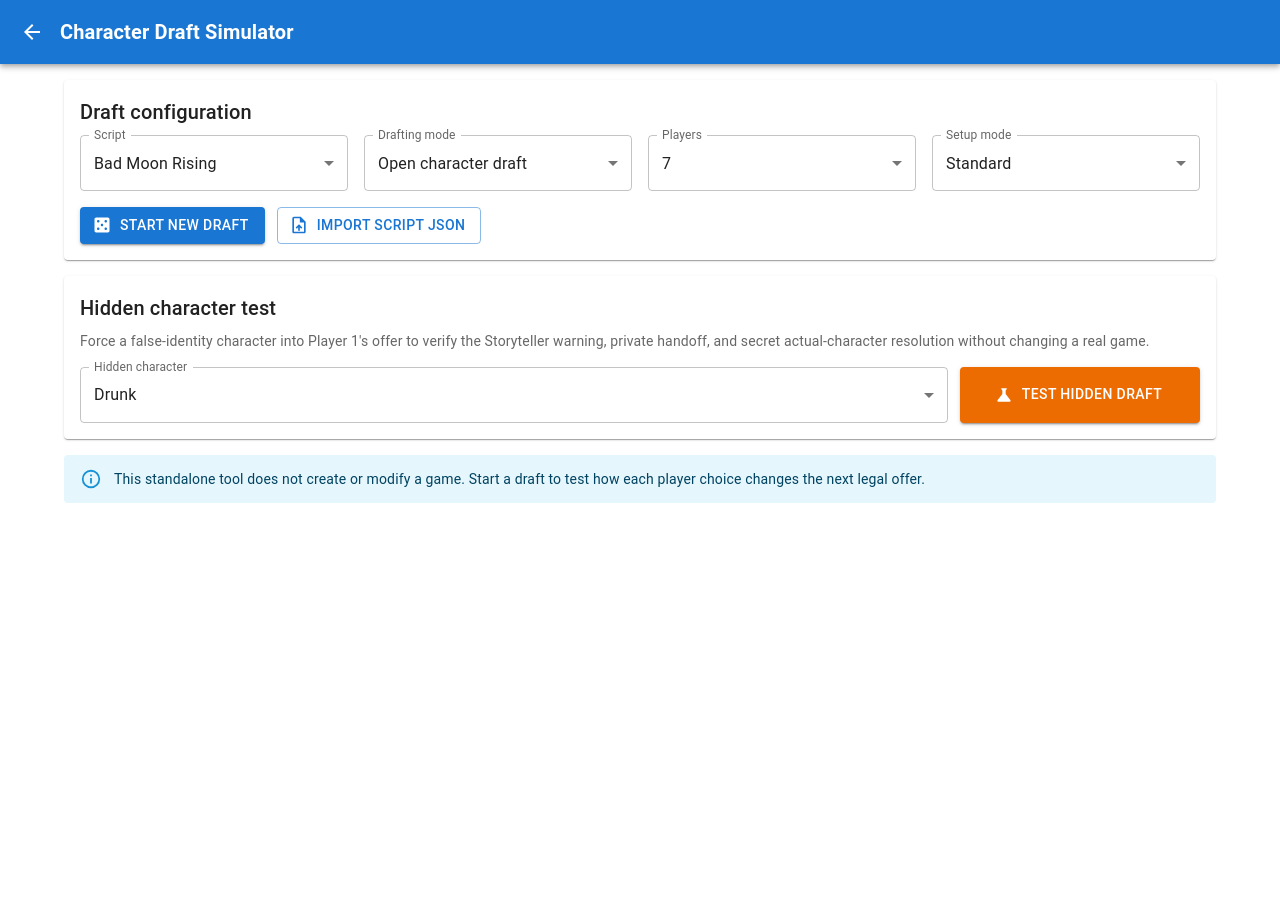
Test: CharacterDraftSimulatorPage › shows the viable candidate count for the active draft
The width and height of the screenshot is (1280, 900).
Step 1. Click the button "Start new draft" → click(172, 225), box [80,207,265,244]
(page scrolled)
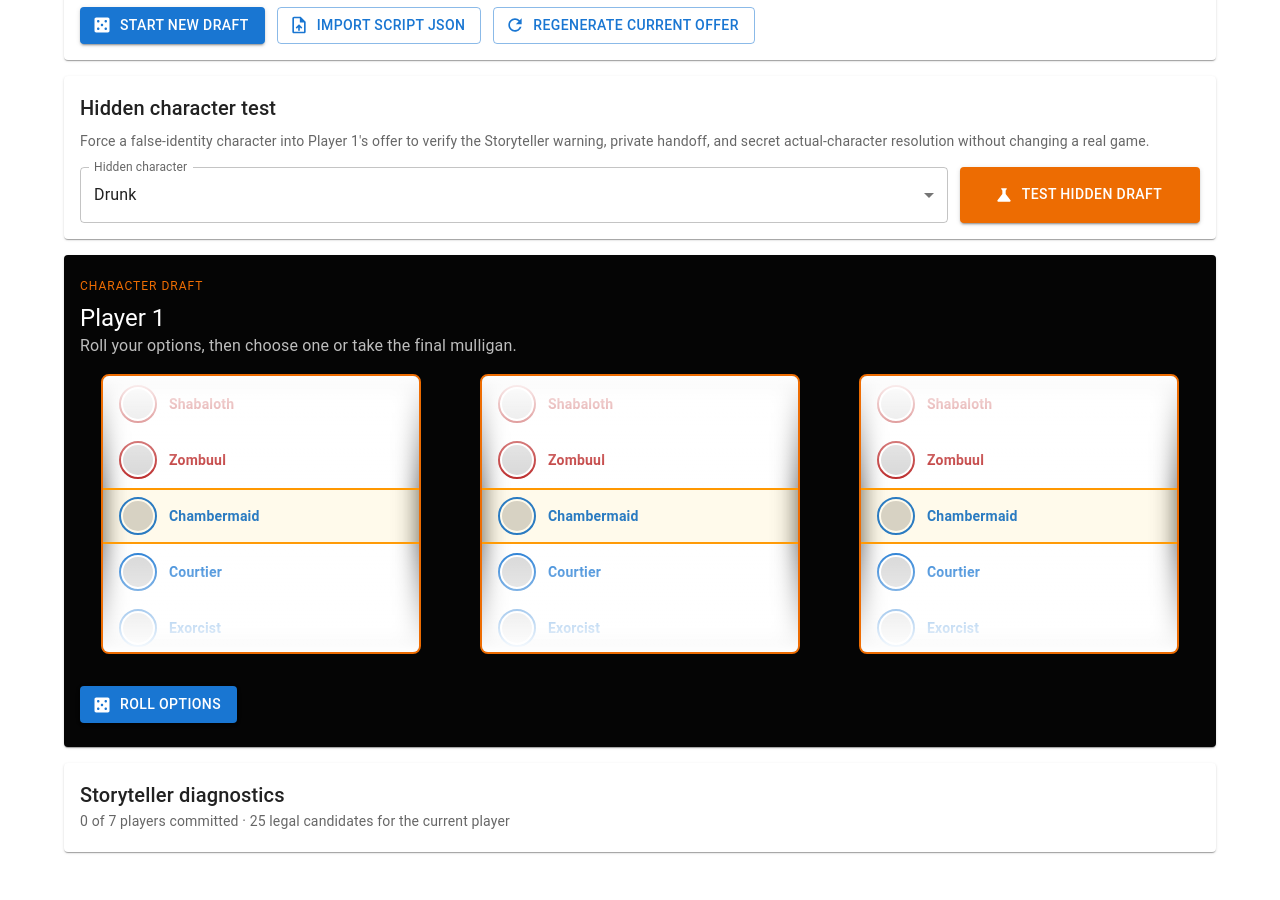
Result: the element with test id "draft-diagnostics" shows "legal candidates for the current player" at [266,813,510,829]
